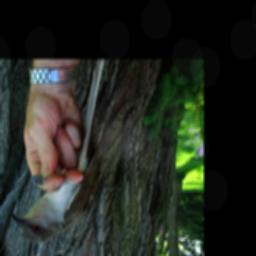Cuckoo: (7, 59, 113, 244)
